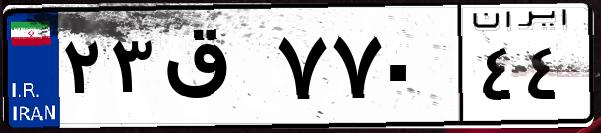0: (385, 28, 445, 110)
2: (57, 26, 110, 100)
3: (110, 28, 158, 98)
4: (475, 38, 525, 113), (525, 38, 570, 115)
7: (270, 28, 330, 110), (330, 28, 385, 110)
ق: (158, 20, 270, 120)
